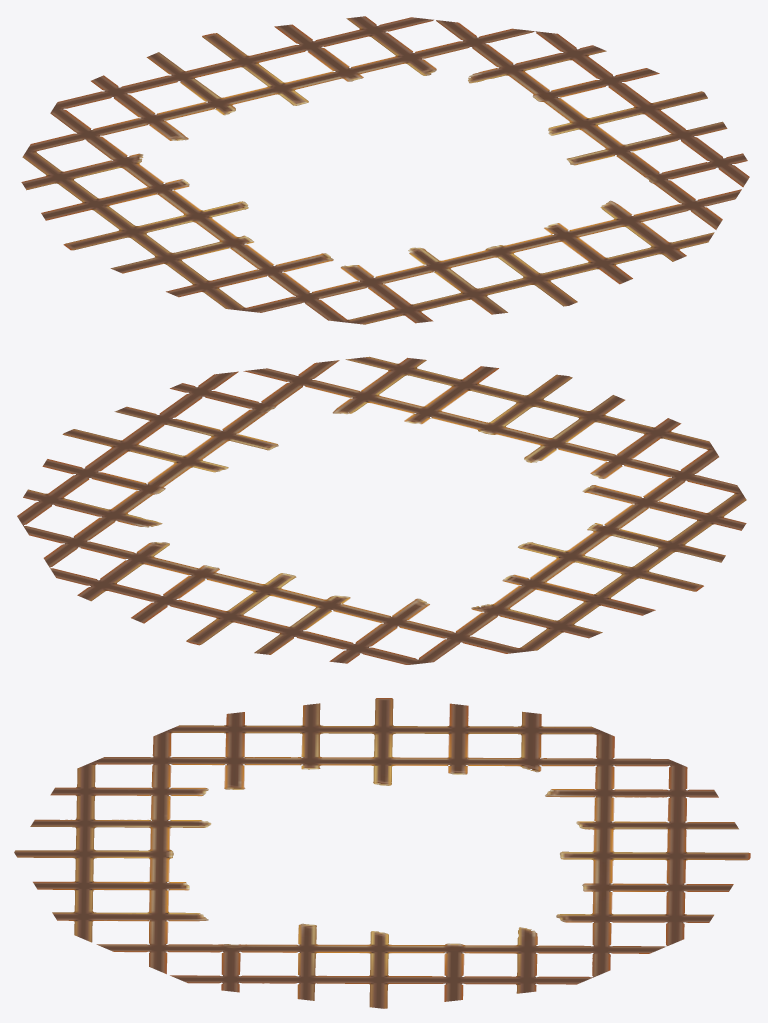
The model's file is shenmijitan_02.FBX.
3 views of the same model, one above another, from view 1: azimuth 30°, elevation 25°; view 2: azimuth 150°, elevation 25°; view 3: azimuth 270°, elevation 25° (orthographic).
Visible parts, largest first — view 1: shenmijitan_02; view 2: shenmijitan_02; view 3: shenmijitan_02.
Part boxes in pixels (x1,y1,x2,y2): shenmijitan_02: [21, 16, 749, 324]; shenmijitan_02: [17, 356, 746, 664]; shenmijitan_02: [14, 698, 750, 1008].
Bounding box in the file's own units: 3.11 × 1.36e-07 × 3.11.
